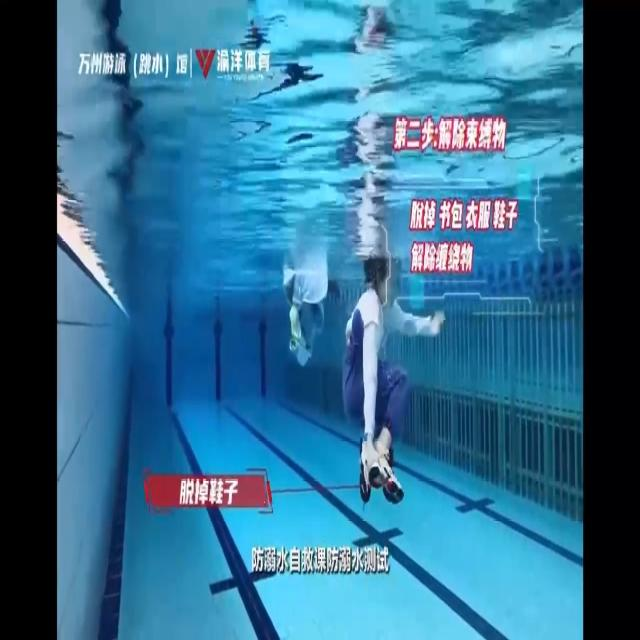Drowning: (342, 261, 448, 504)
